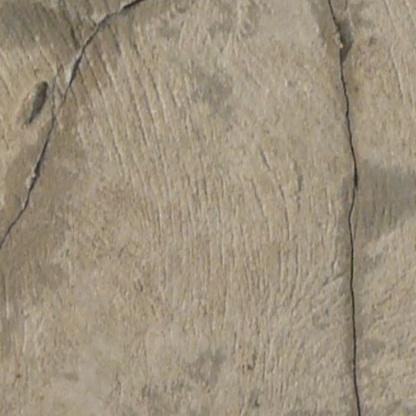Cracks: (0, 25, 105, 283), (321, 0, 367, 416), (119, 0, 184, 16)
